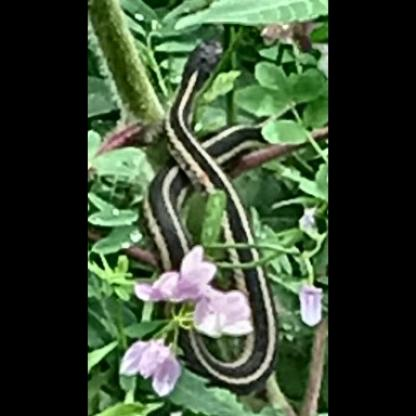Snake: (132, 35, 294, 393)
